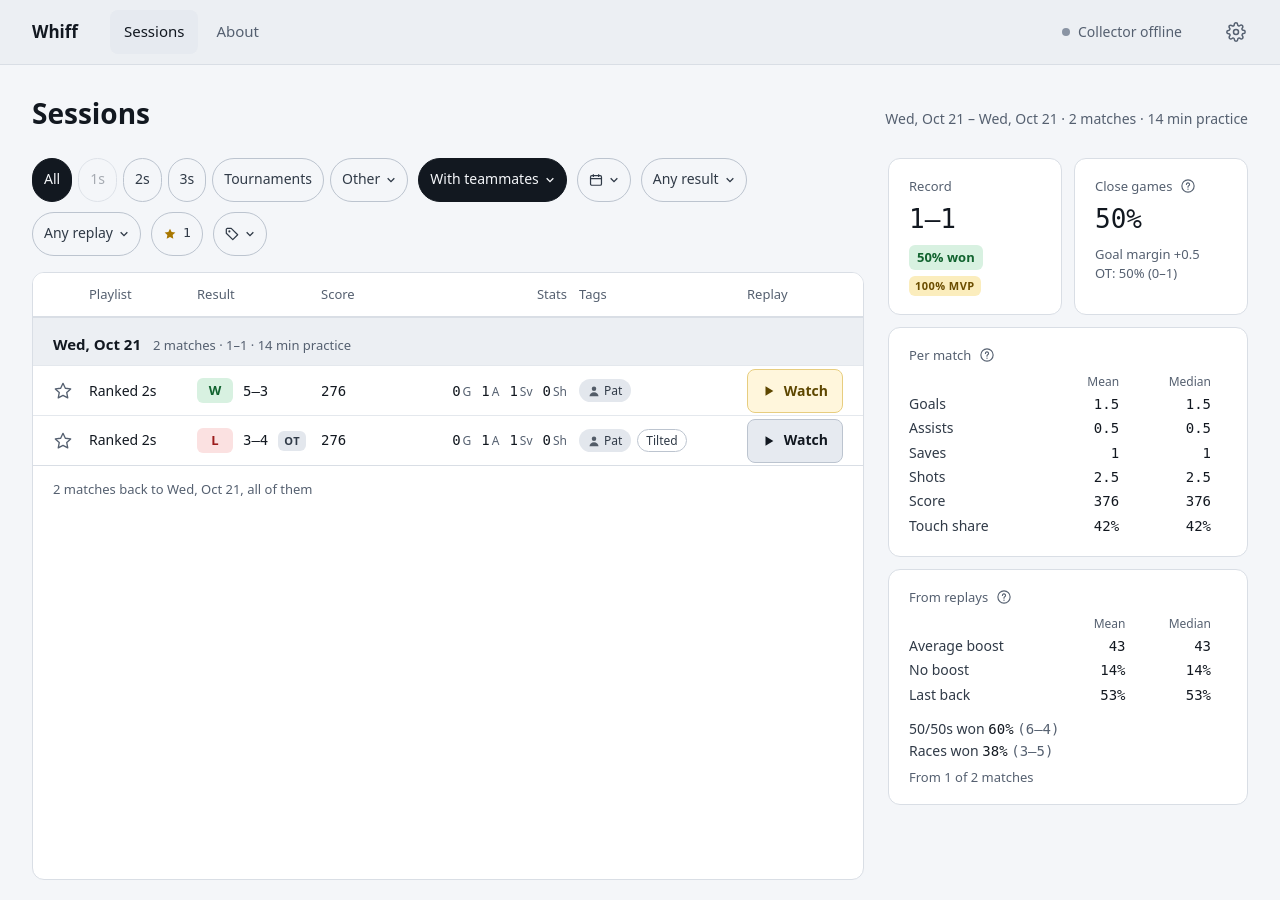
filter chips that would change nothing › turn off where they'd show nothing or everything, and a team size drops a teammate filter that no longer applies
Expected: the heading "Wed, Oct 21 2 matches · 1–1 · 14 min practice" is shown, x1=33 y1=317 x2=863 y2=365
# 3s has no matches with a teammate, so choosing it drops "With teammates".
Click the link "3s". click: x=187, y=180
box: x1=168 y1=158 x2=206 y2=202
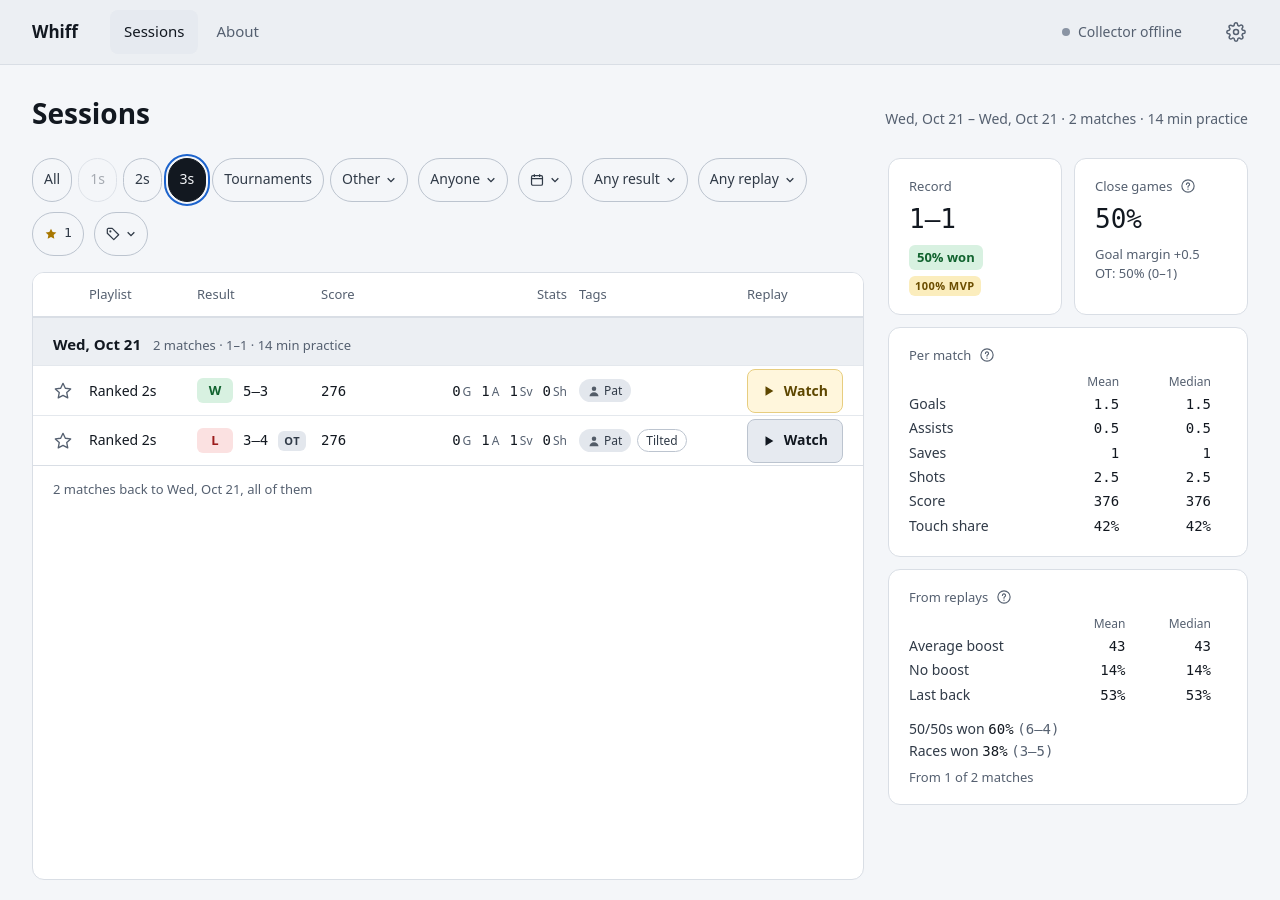
Expected: the button "Anyone" is shown, x1=418 y1=158 x2=508 y2=202
Result: the button "With teammates" is gone
